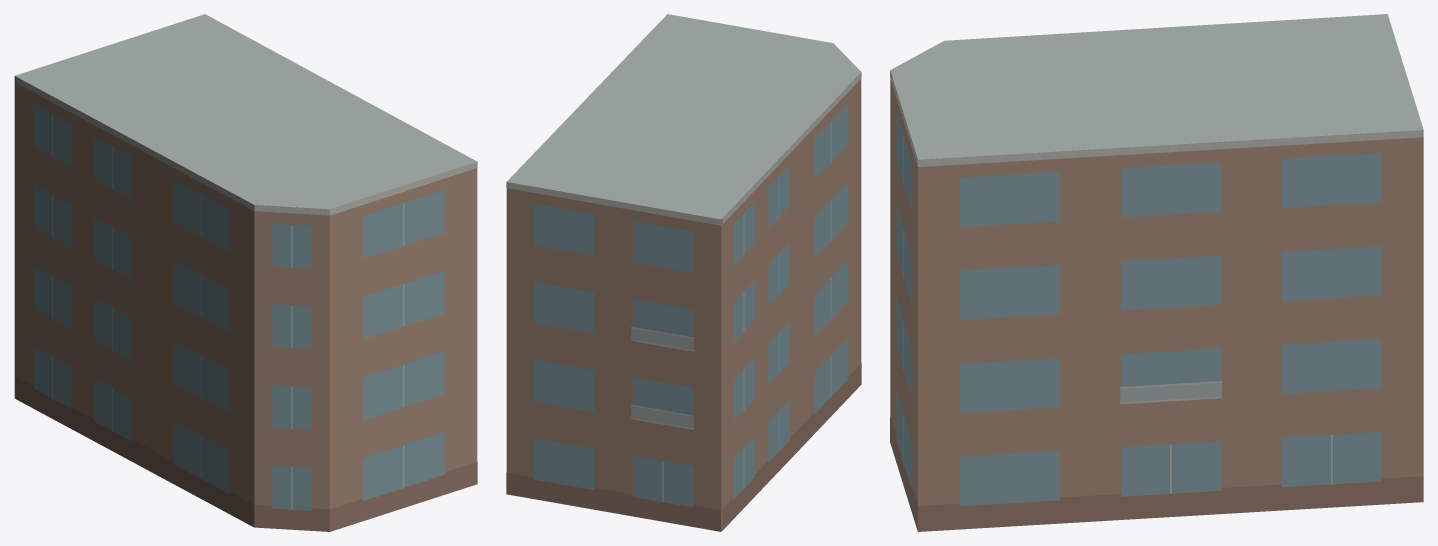
Rendered from survey-upis-32739347.glb.
The picture shows the model from 3 angles, left to right: view 1: azimuth 30°, elevation 25°; view 2: azimuth 150°, elevation 25°; view 3: azimuth 270°, elevation 25°; orthographic projection. The views are drawn at different scales.
Parts seen in each view (by area): view 1: survey-upis-32739347.tmp; view 2: survey-upis-32739347.tmp; view 3: survey-upis-32739347.tmp.
Boxes of the visible parts, x1,y1,x2,y2 form: survey-upis-32739347.tmp: [14, 14, 477, 531]; survey-upis-32739347.tmp: [506, 14, 861, 531]; survey-upis-32739347.tmp: [890, 14, 1423, 531].
Size of the model in its own units: 10.48 by 12.45 by 16.19.
